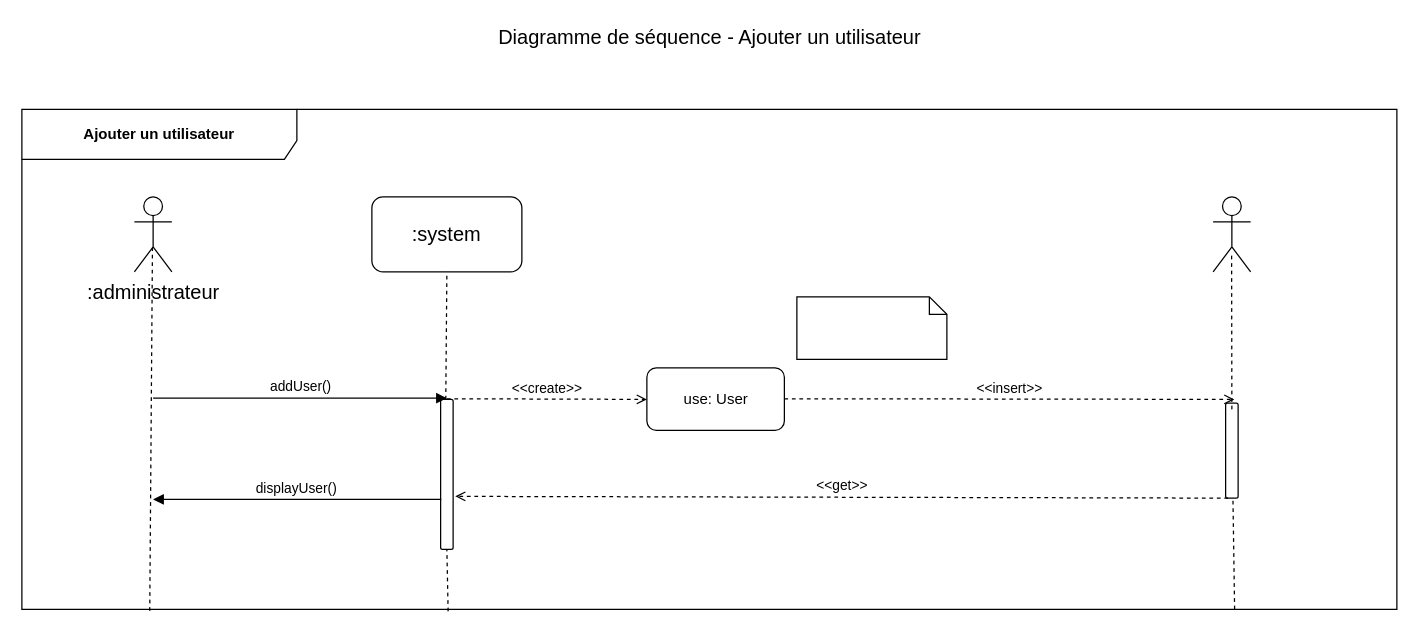
The diagram is 1419 pixels wide and 635 high, and some of its shapes have lost their labels. The centre of each missing label's shape, as x and y in pixels:
:bdd: point 1231,234
name, role, password...: point 871,327
